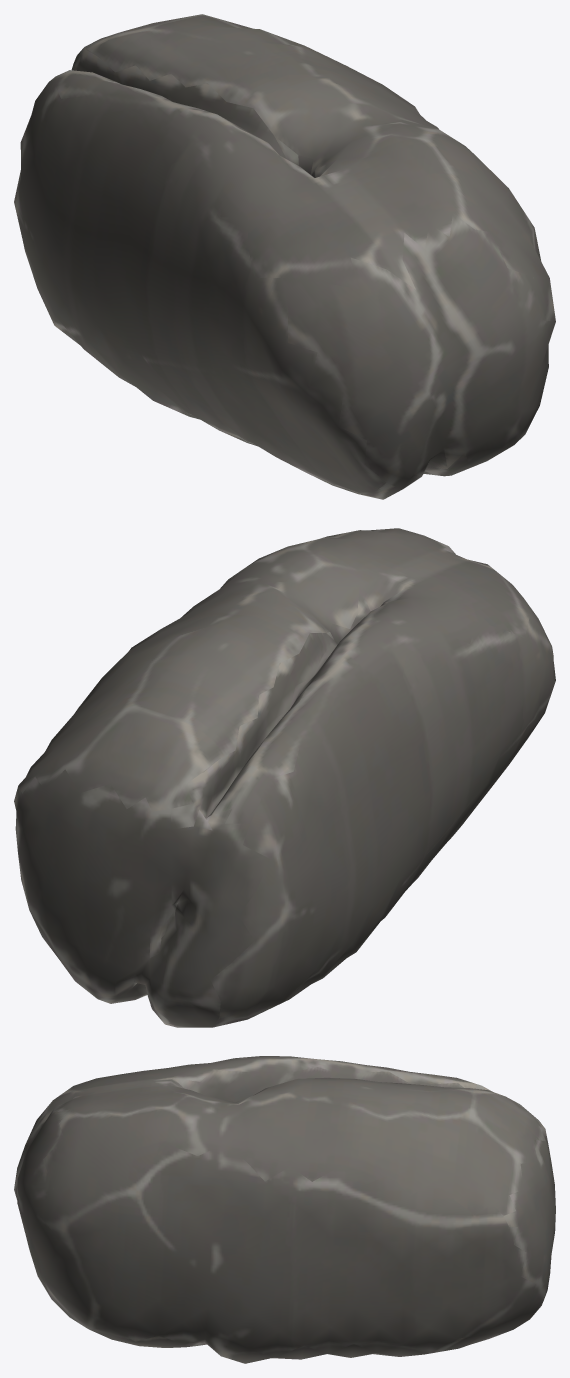
File: SM_rock_small_04.glb
The picture shows the model from 3 angles, top to bottom: view 1: azimuth 30°, elevation 25°; view 2: azimuth 150°, elevation 25°; view 3: azimuth 270°, elevation 25°; orthographic projection. The views are drawn at different scales.
Parts seen in each view (by area): view 1: SM_rock_small_04; view 2: SM_rock_small_04; view 3: SM_rock_small_04.
Part boxes in pixels (box(x1,y1,x2,y2)): SM_rock_small_04: box(14, 14, 555, 499); SM_rock_small_04: box(14, 528, 555, 1027); SM_rock_small_04: box(14, 1056, 555, 1363).
Size of the model in its own units: 0.7883 by 0.8132 by 1.58.
1 material, 1 textured.
